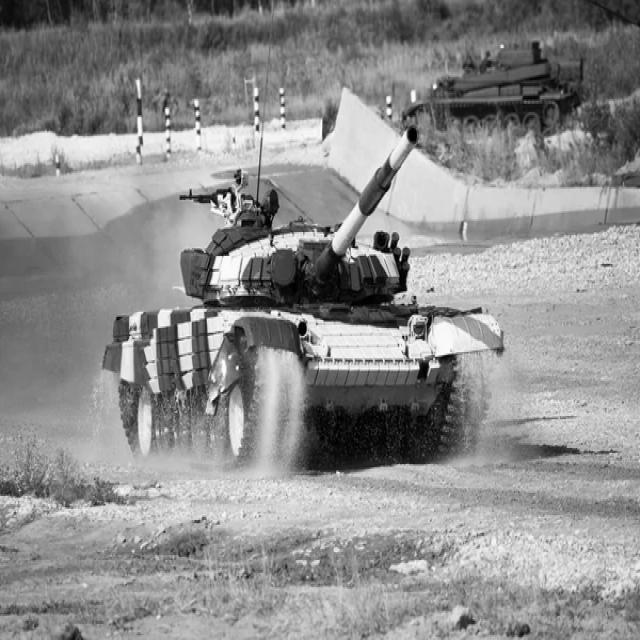Tank: (112, 121, 500, 485)
